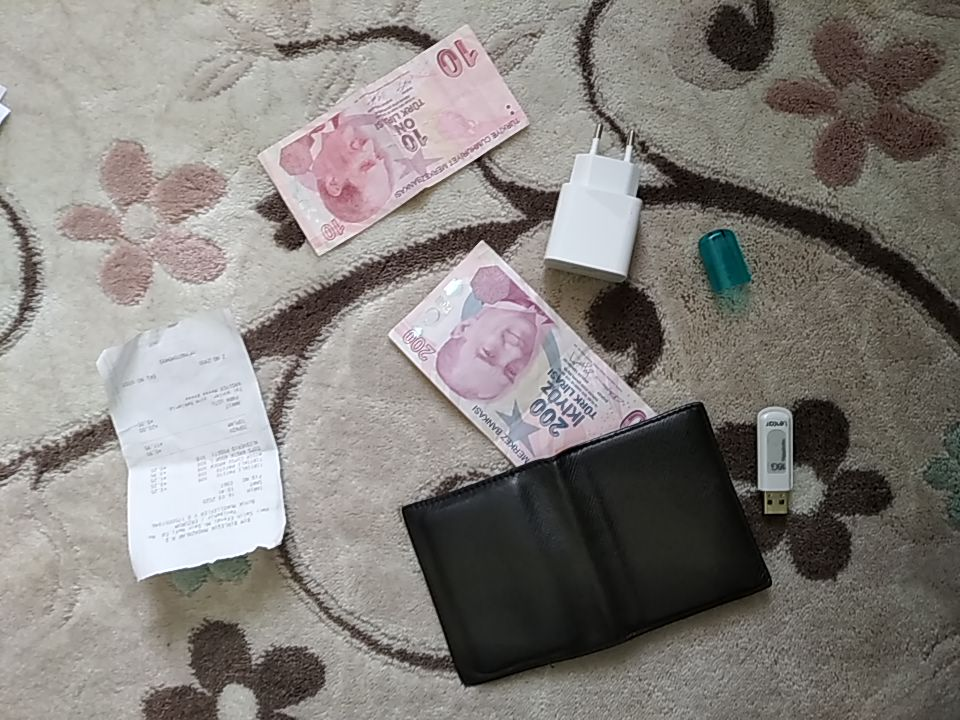200TL: (388, 237, 661, 470)
